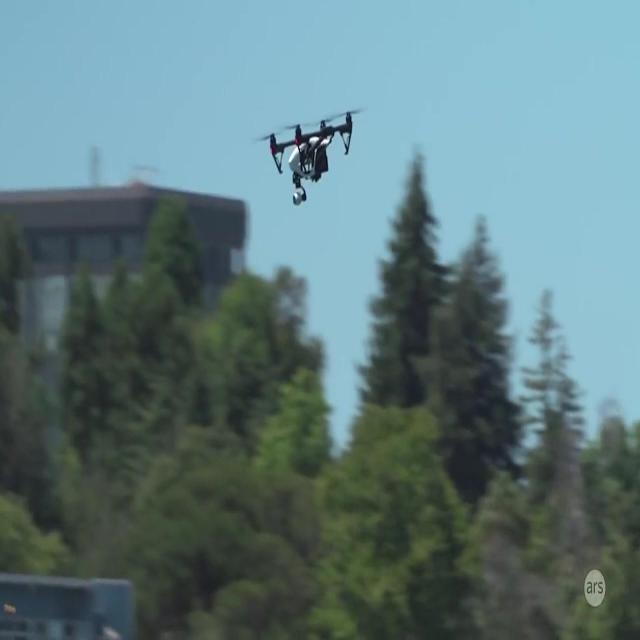drone: (267, 103, 363, 211)
